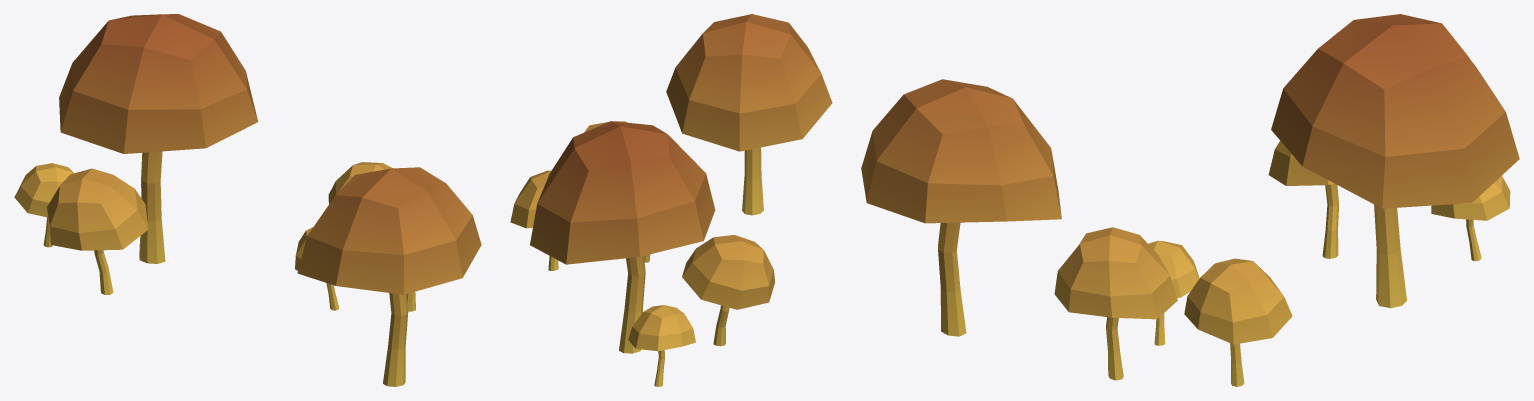
The model's file is SM_Exterior_Setas_03.fbx.
The picture shows the model from 3 angles, left to right: view 1: azimuth 30°, elevation 25°; view 2: azimuth 150°, elevation 25°; view 3: azimuth 270°, elevation 25°; orthographic projection. The views are drawn at different scales.
Parts seen in each view (by area): view 1: SM_Exterior_Setas3; view 2: SM_Exterior_Setas3; view 3: SM_Exterior_Setas3.
Part boxes in pixels (box(x1,y1,x2,y2)): SM_Exterior_Setas3: box(14, 14, 481, 386); SM_Exterior_Setas3: box(510, 14, 832, 386); SM_Exterior_Setas3: box(861, 14, 1519, 386).
Size of the model in its own units: 44.62 by 32.35 by 68.41.
